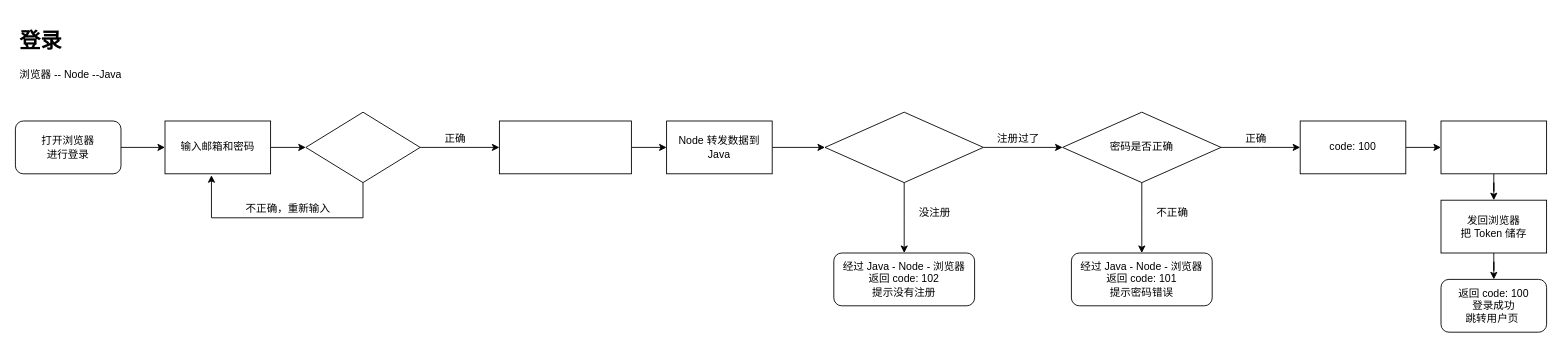
The diagram is 1562 pixels wide and 348 high, and some of its shapes have lost their labels. The centre of each missing label's shape, as x and y in pixels:
"判断输入格式 是否正确" goes at pixel 362 147.
"发回 Node 根据 email 生成 Token" goes at pixel 1493 147.
"发送数据到 Node Node 对密码进行加密" goes at pixel 565 147.
"是否已经注册过" goes at pixel 903 147.
